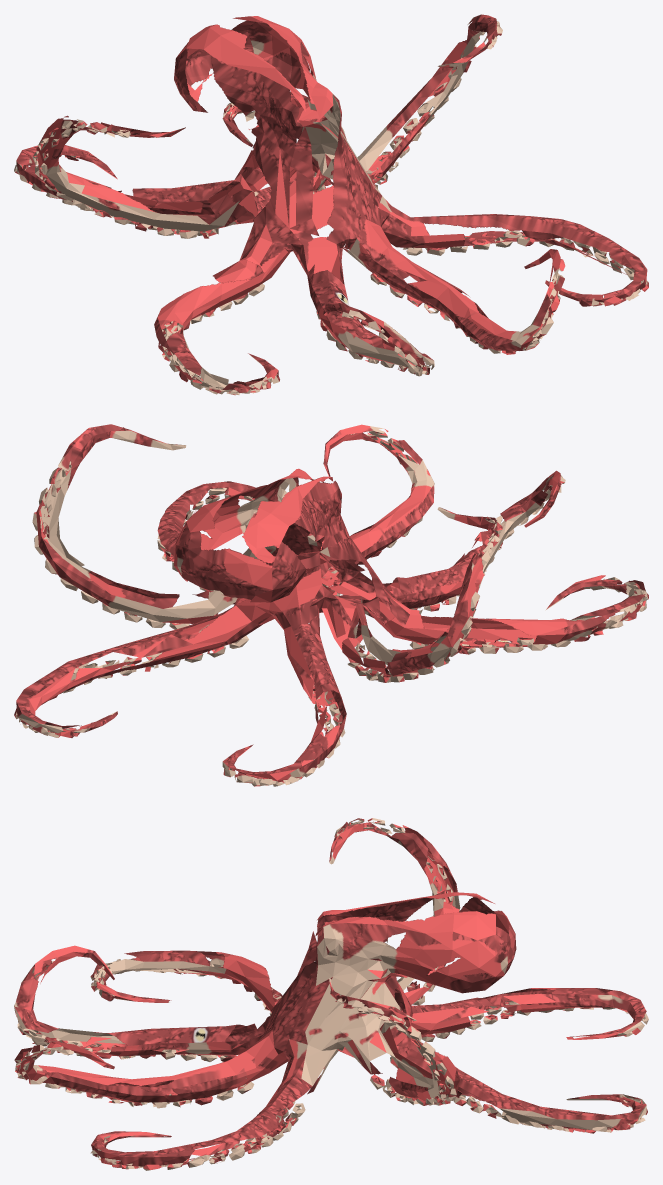
The model's file is Octopus.obj.
3 views of the same model, one above another, from view 1: azimuth 30°, elevation 25°; view 2: azimuth 150°, elevation 25°; view 3: azimuth 270°, elevation 25° (orthographic). The views are drawn at different scales.
Visible parts, largest first — view 1: OctopusLP; view 2: OctopusLP; view 3: OctopusLP.
Boxes of the visible parts, left/top/right/bottom form: OctopusLP: left=14, top=14, right=648, bottom=395; OctopusLP: left=14, top=424, right=648, bottom=786; OctopusLP: left=14, top=818, right=648, bottom=1170.
Size of the model in its own units: 1.87 by 0.7634 by 2.43.
